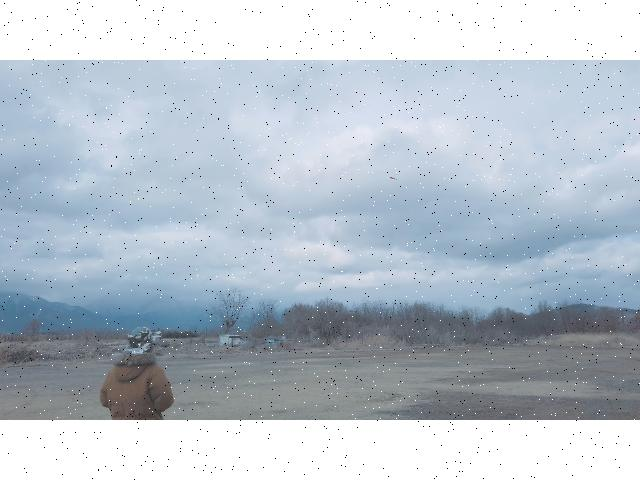Anti-Drone: (381, 172, 403, 184)
